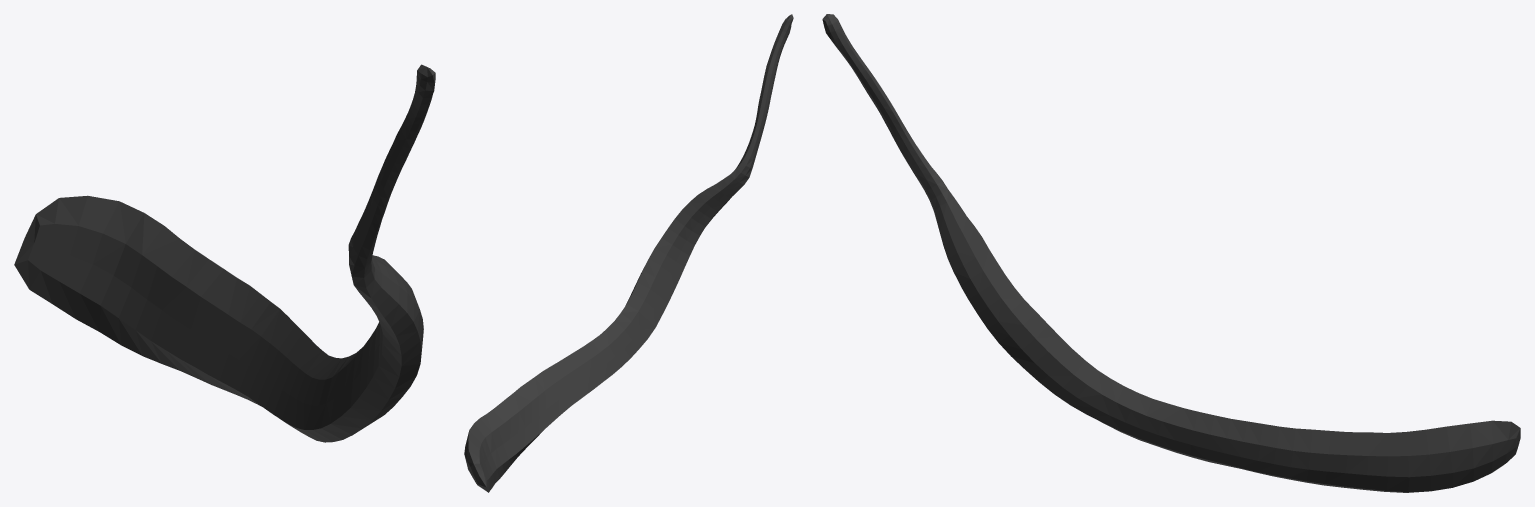
Rendered from Scalenus_dorsalis.glb.
3 renders of one model, left to right at view 1: azimuth 30°, elevation 25°; view 2: azimuth 150°, elevation 25°; view 3: azimuth 270°, elevation 25°, orthographic. The views are drawn at different scales.
Visible parts, largest first — view 1: Scalenus_dorsalis; view 2: Scalenus_dorsalis; view 3: Scalenus_dorsalis.
Boxes of the visible parts, x1,y1,x2,y2 form: Scalenus_dorsalis: (14, 64, 435, 442); Scalenus_dorsalis: (464, 14, 793, 492); Scalenus_dorsalis: (822, 14, 1520, 492).
Size of the model in its own units: 0.3039 by 0.9378 by 1.38.
1 material, 1 textured.
